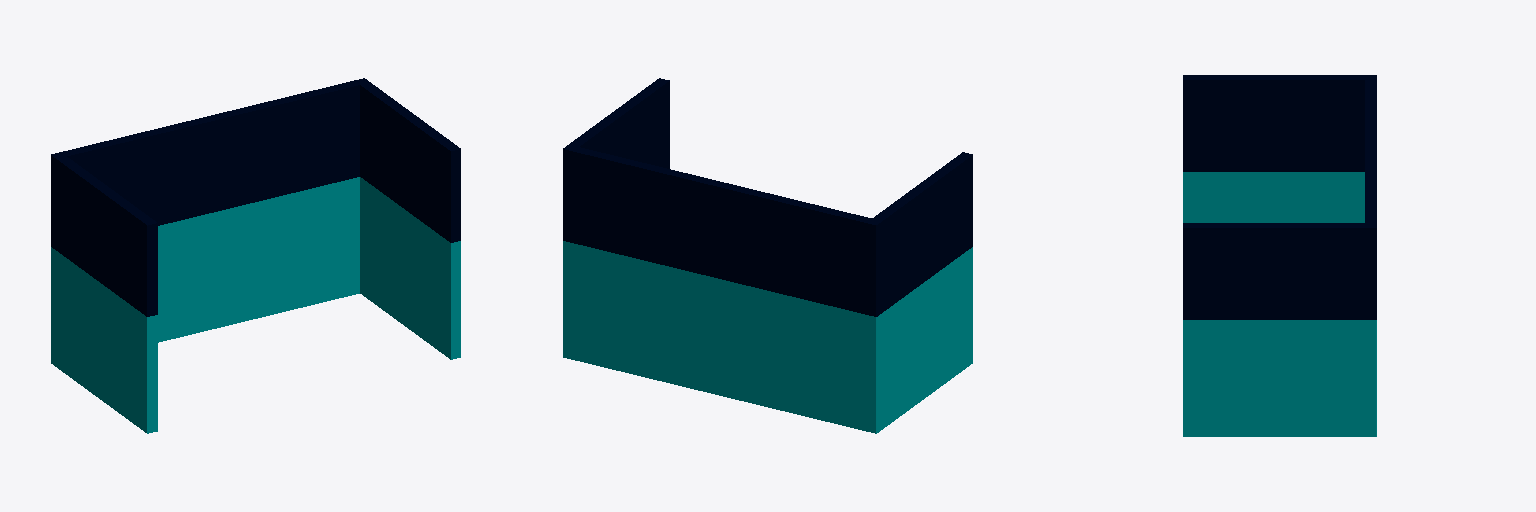
File: Wall04.obj
3 renders of one model, left to right at view 1: azimuth 30°, elevation 25°; view 2: azimuth 150°, elevation 25°; view 3: azimuth 270°, elevation 25°, orthographic.
Parts seen in each view (by area): view 1: Box009; view 2: Box009; view 3: Box009.
Boxes of the visible parts, x1,y1,x2,y2 form: Box009: [51, 78, 460, 433]; Box009: [563, 78, 972, 433]; Box009: [1183, 75, 1376, 436].
Size of the model in its own units: 300 by 190 by 160.